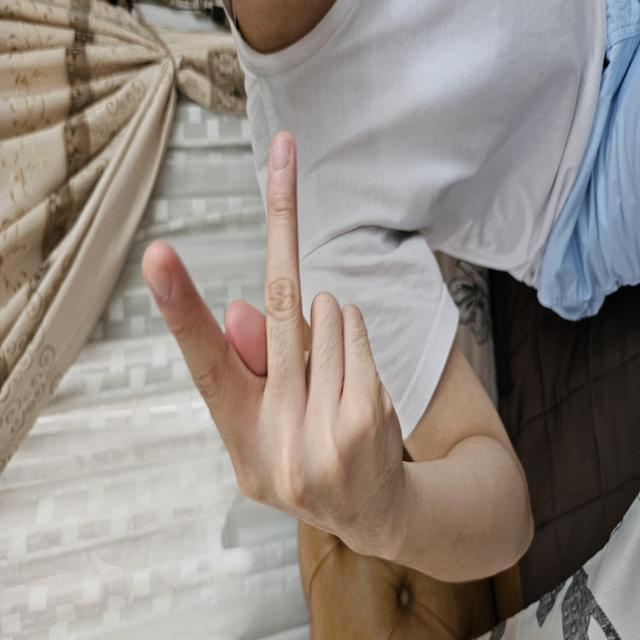K: (84, 140, 511, 406)
